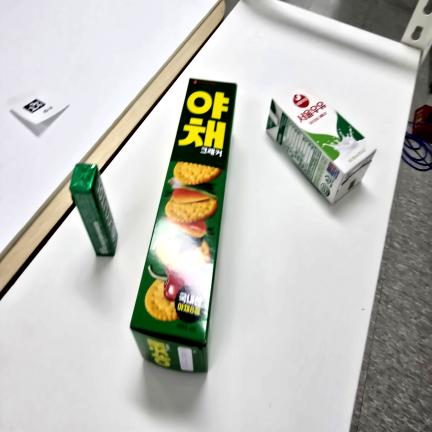cracker_vege: (130, 78, 237, 373)
gum_green: (69, 164, 118, 256)
milk_green: (266, 85, 377, 204)
